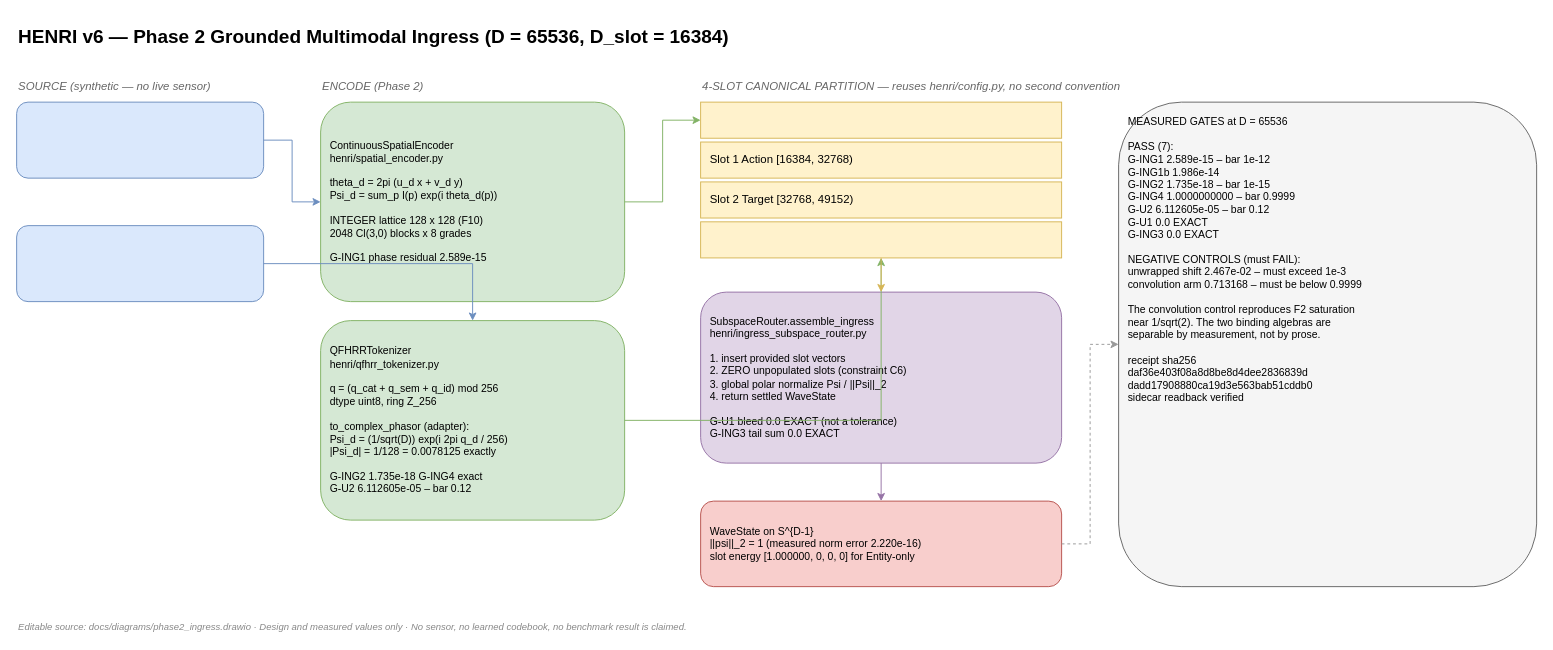
Some shapes in this 1553 by 650 pixel diagram are drawn without their labels. Here are the shapes that lost their labels. From the top down, the centre of each, then its label:
At (140,139): "Sensor field I(x, y) real intensity array 32x32 (synthetic, NOT camera data)".
At (881,119): "Slot 0 Entity [0, 16384)".
At (881,239): "Slot 3 Context [49152, 65536)".
At (140,263): "Token id triple (category, semantic, instance) integer ids, no vocabulary".
